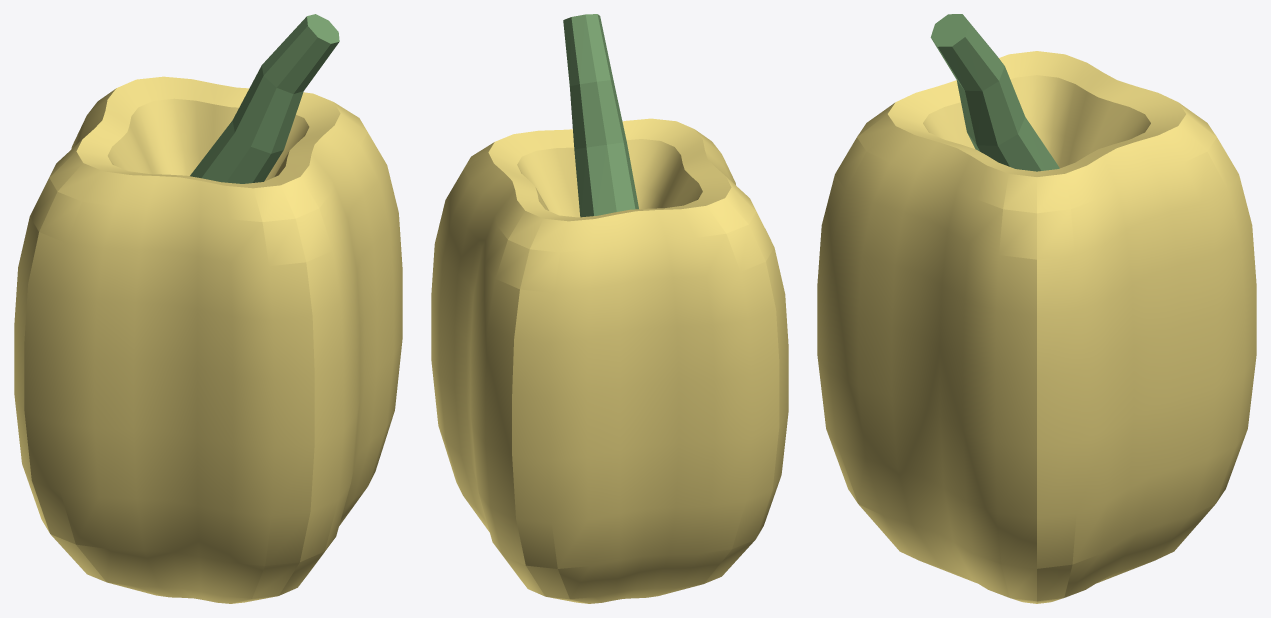
Rendered from fresh-produce-and-groceries-bell-pepper-yellow-cbe02aef__24378.glb.
3 renders of one model, left to right at view 1: azimuth 30°, elevation 25°; view 2: azimuth 150°, elevation 25°; view 3: azimuth 270°, elevation 25°, orthographic. The views are drawn at different scales.
Visible parts, largest first — view 1: bell-pepper-yellow; view 2: bell-pepper-yellow; view 3: bell-pepper-yellow.
Part boxes in pixels (x1,y1,x2,y2): bell-pepper-yellow: (14, 14, 402, 603); bell-pepper-yellow: (431, 14, 788, 603); bell-pepper-yellow: (817, 14, 1256, 603).
Bounding box in the file's own units: 0.086 × 0.1274 × 0.086.
